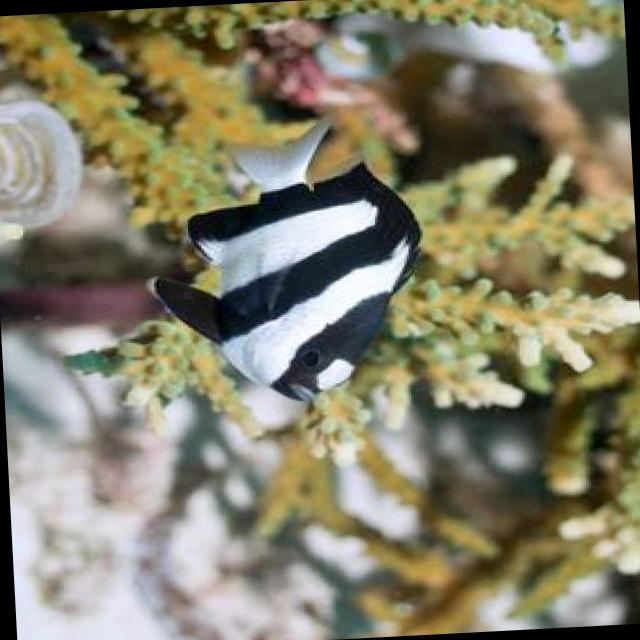ThreeStripedDamselfish: (144, 116, 421, 405)
